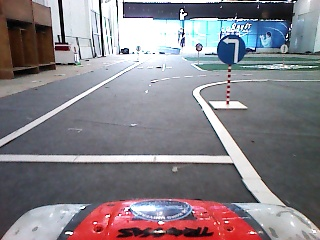turn: (216, 34, 246, 67)
